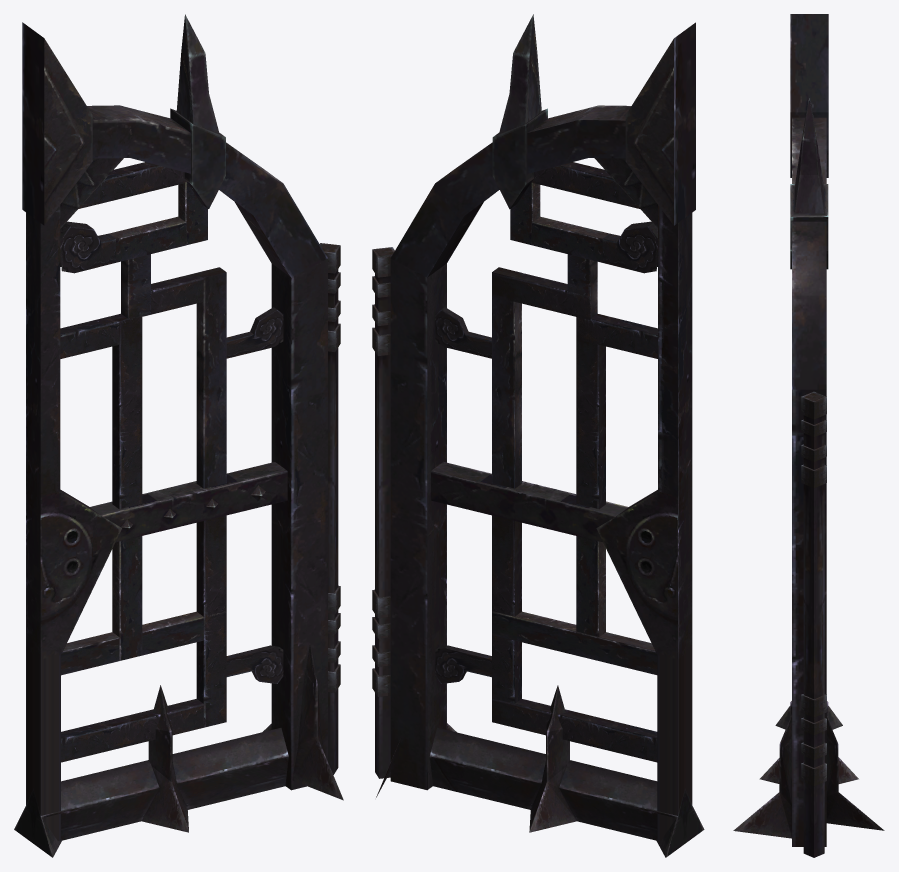
Rendered from 2_BTT_GongXingTieMen_01.FBX.
3 renders of one model, left to right at view 1: azimuth 30°, elevation 25°; view 2: azimuth 150°, elevation 25°; view 3: azimuth 270°, elevation 25°, orthographic. The views are drawn at different scales.
Visible parts, largest first — view 1: 2_BTT_GongXingTieMen_01; view 2: 2_BTT_GongXingTieMen_01; view 3: 2_BTT_GongXingTieMen_01.
Boxes of the visible parts, x1,y1,x2,y2 form: 2_BTT_GongXingTieMen_01: (14,14,343,857); 2_BTT_GongXingTieMen_01: (372,14,704,857); 2_BTT_GongXingTieMen_01: (733,14,884,857).
Size of the model in its own units: 236 by 592 by 114.
1 material, 1 textured.
